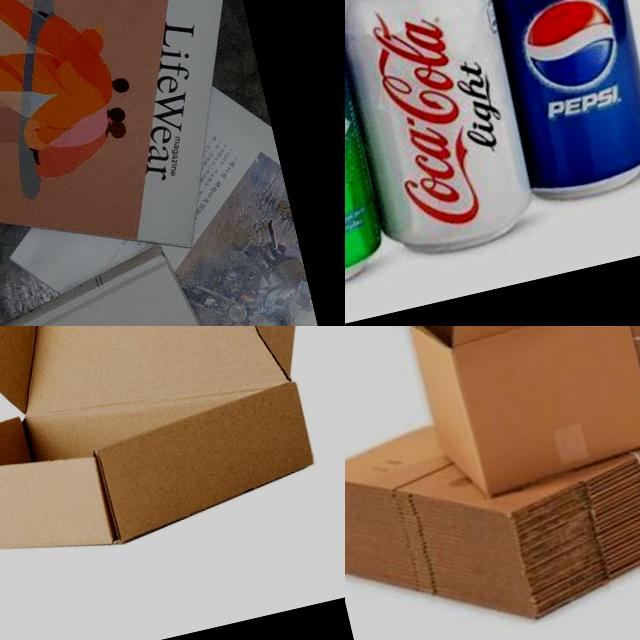garrafa plástica: (0, 326, 345, 606), (345, 326, 640, 640)
lata: (345, 0, 546, 265), (462, 0, 640, 210), (345, 0, 395, 309)
papel: (0, 0, 345, 326)
